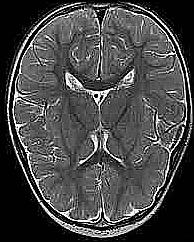Normal_Brain: (6, 1, 194, 242)
